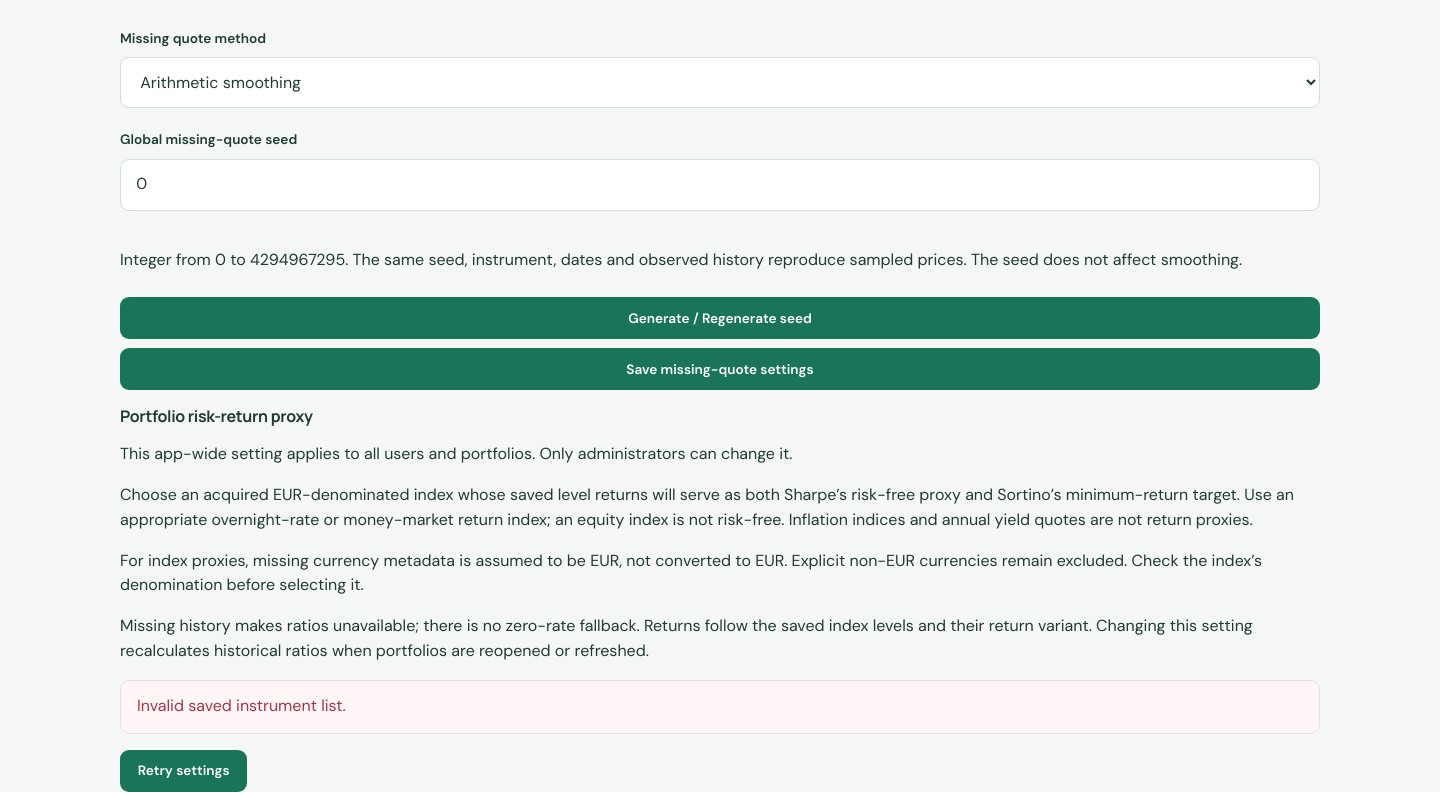
Scenario: does not offer a partial list after pagination failure and can retry
This screenshot has width=1440, height=792.
(page scrolled)
Check: the message shows "Invalid saved instrument list", box [137, 695, 346, 716]
Check: the field labelled "Saved EUR index" is not shown
Click the button "Retry settings". click: (184, 771)
box: [120, 750, 247, 791]
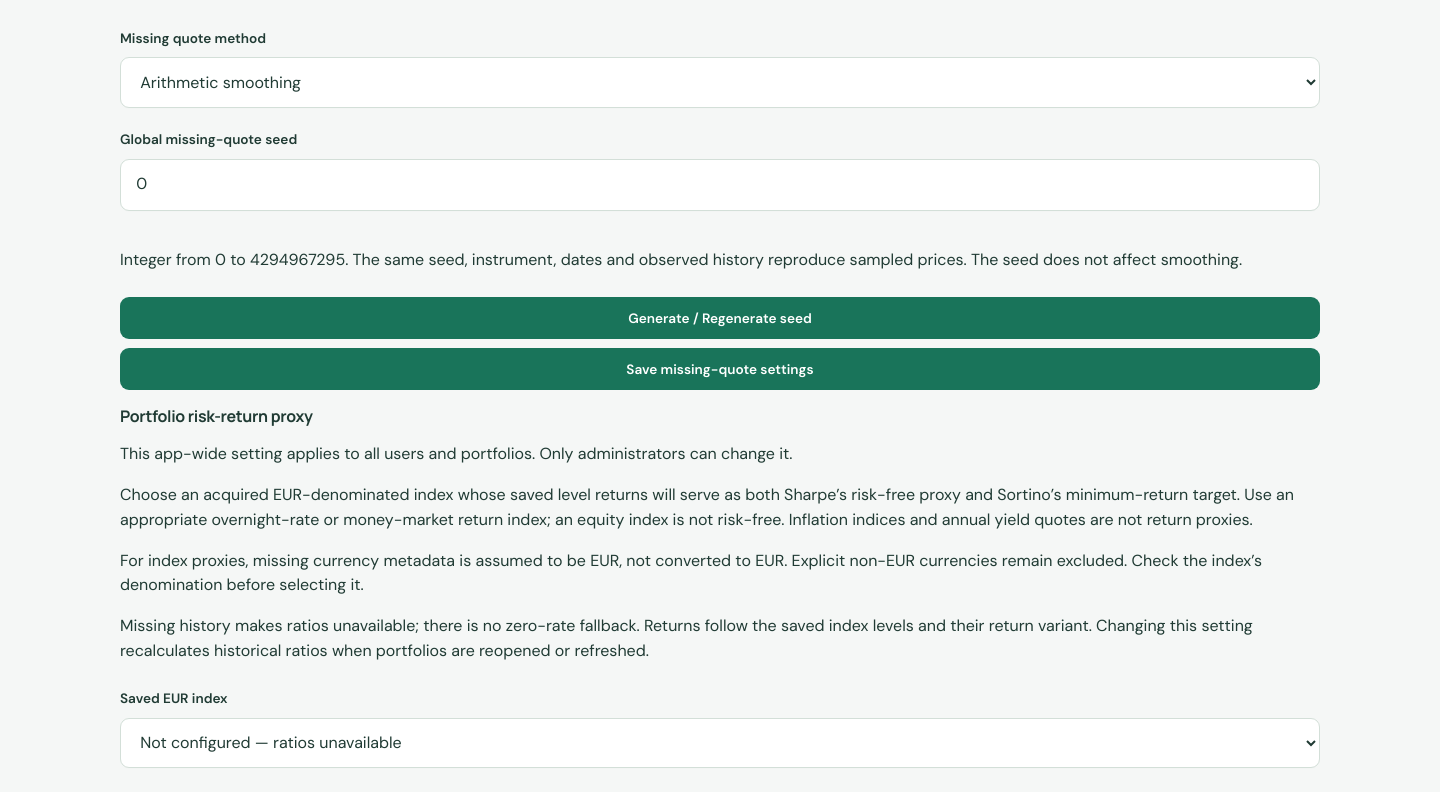
Check: the dropdown labelled "Saved EUR index" is shown, box [120, 718, 1320, 768]
